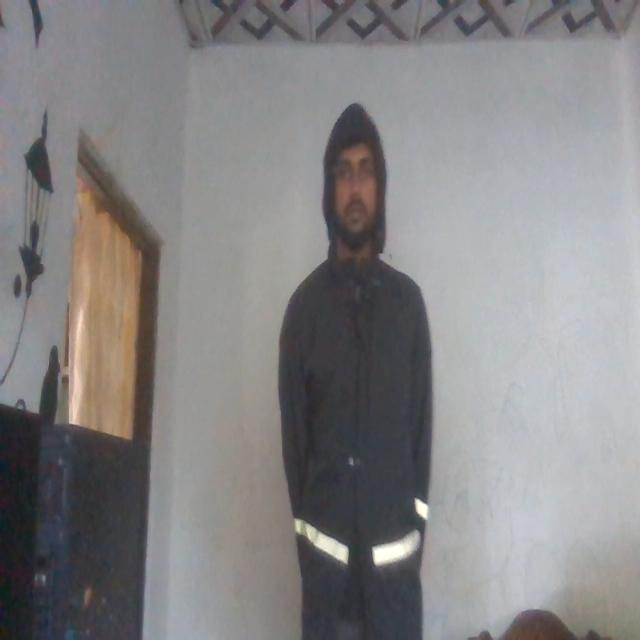Jacket_Wearer: (277, 231, 431, 600)
Person: (278, 99, 433, 640)
